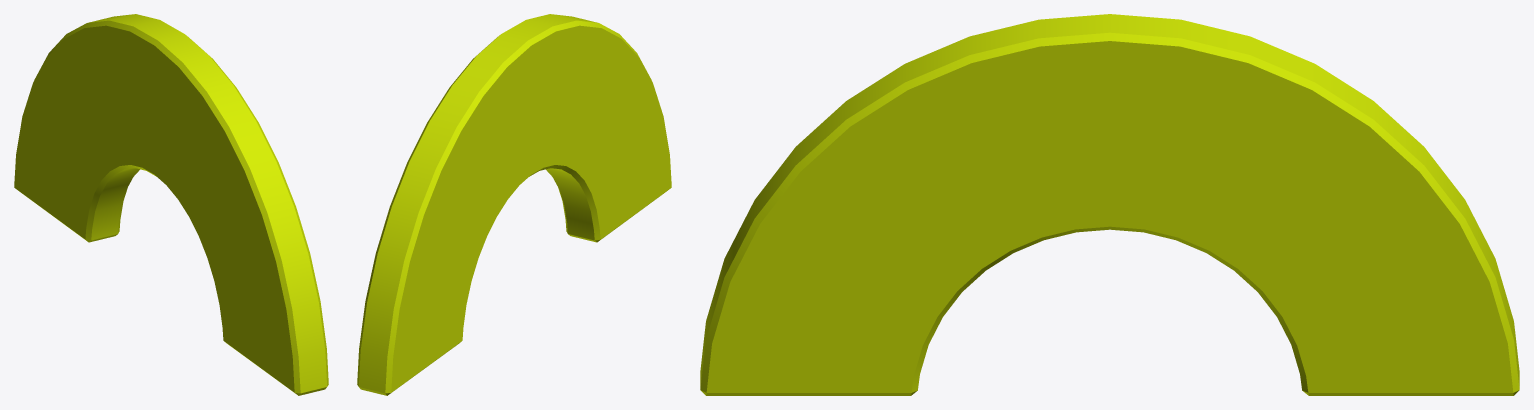
The model's file is Poster_01.fbx.
3 renders of one model, left to right at view 1: azimuth 30°, elevation 25°; view 2: azimuth 150°, elevation 25°; view 3: azimuth 270°, elevation 25°, orthographic. The views are drawn at different scales.
Visible parts, largest first — view 1: Poster_01; view 2: Poster_01; view 3: Poster_01.
Boxes of the visible parts, x1,y1,x2,y2 form: Poster_01: (14,14,328,395); Poster_01: (357,14,671,395); Poster_01: (700,14,1519,395).
Bounding box in the file's own units: 0.8391 × 5.93 × 12.12.
